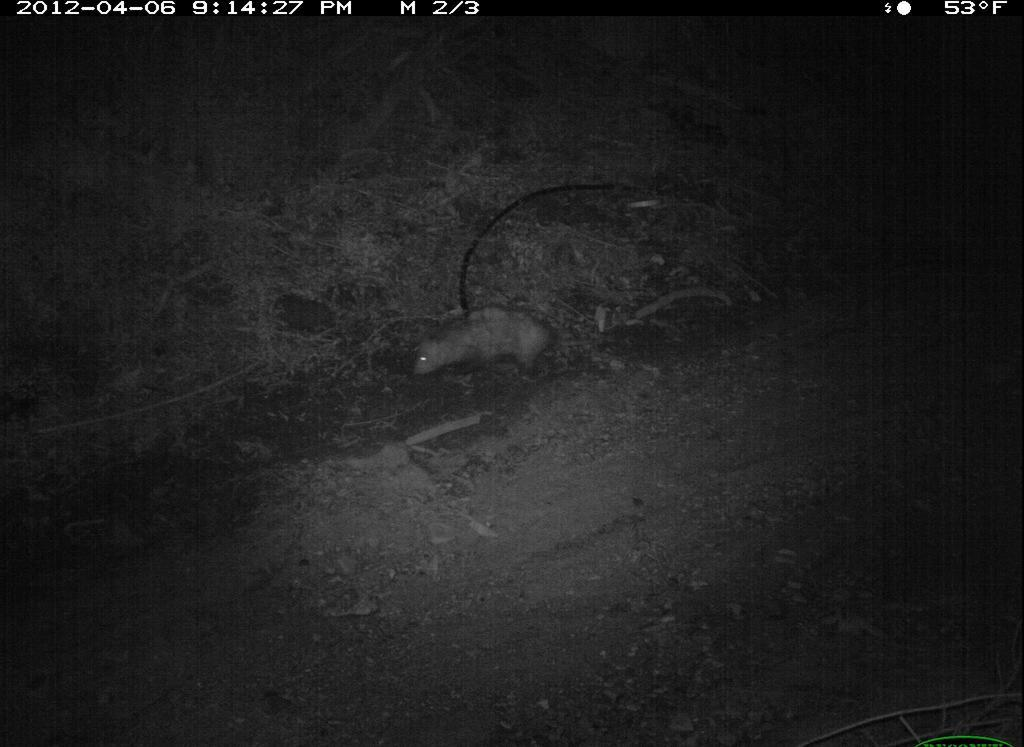opossum: (406, 300, 611, 395)
